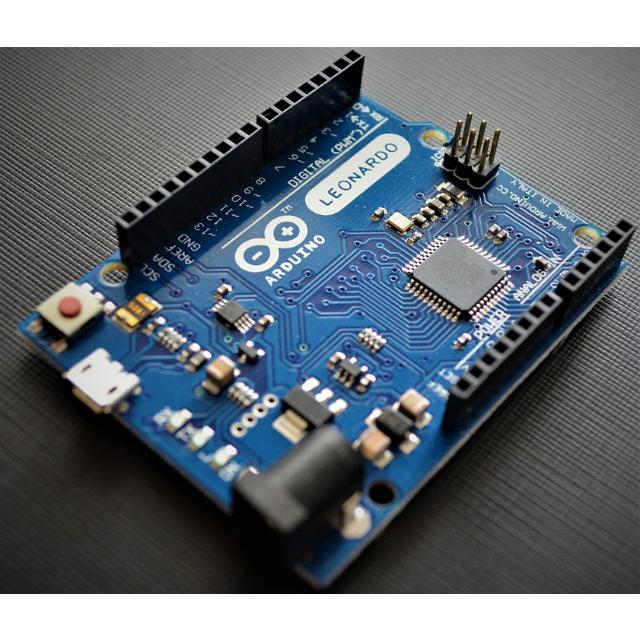Arduino-leonardo: (18, 51, 636, 591)
